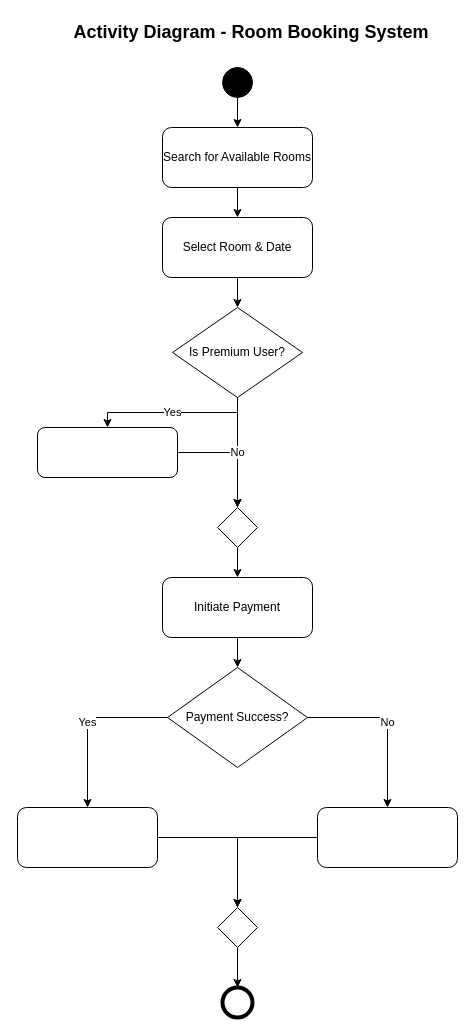
The diagram is 475 pixels wide and 1036 high, and some of its shapes have lost their labels. The box of each missing label's shape, as (x1, y1, x2, y2) in pixels:
Apply Premium Discount: (36, 426, 178, 478)
Confirm Booking & Send Receipt: (16, 806, 158, 868)
Show Payment Error & Retry: (316, 806, 458, 868)
